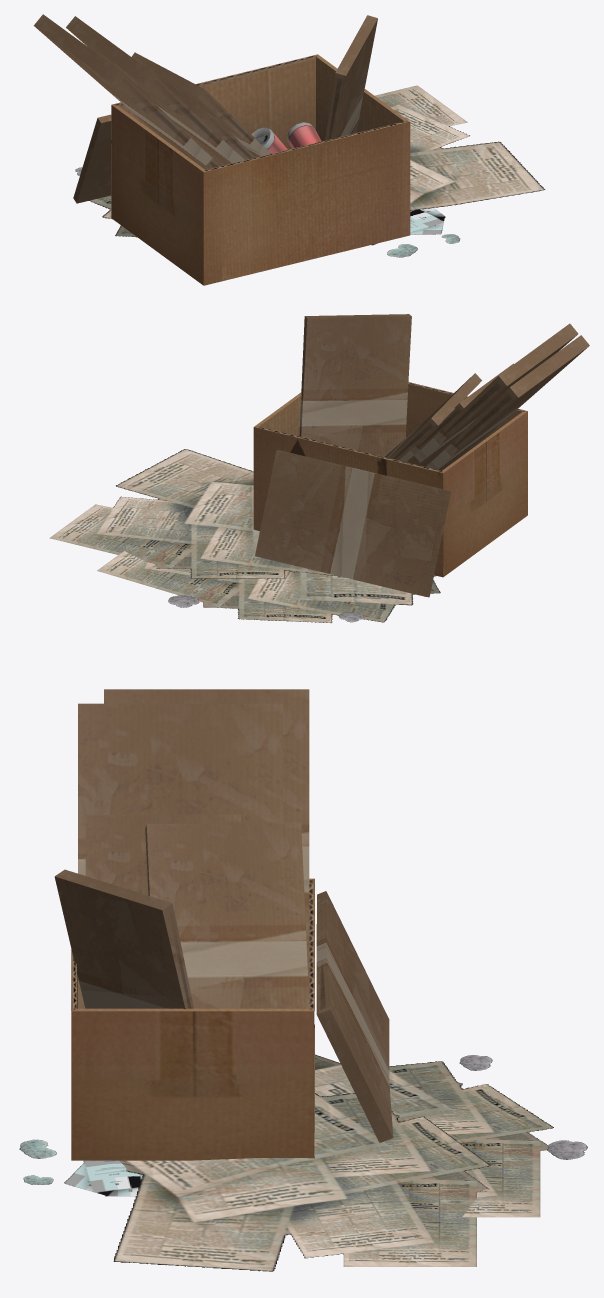
The model's file is Asset_Bundle.FBX.
3 renders of one model, top to bottom at view 1: azimuth 30°, elevation 25°; view 2: azimuth 150°, elevation 25°; view 3: azimuth 270°, elevation 25°, orthographic. The views are drawn at different scales.
Parts seen in each view (by area): view 1: Gum_004; view 2: Gum_004; view 3: Gum_004.
Part boxes in pixels (box(x1,y1,x2,y2)): Gum_004: box(33, 14, 545, 285); Gum_004: box(49, 314, 589, 622); Gum_004: box(19, 689, 587, 1271).
Size of the model in its own units: 3486 by 1703 by 2801.
Materials: 1 (1 with a texture image).
